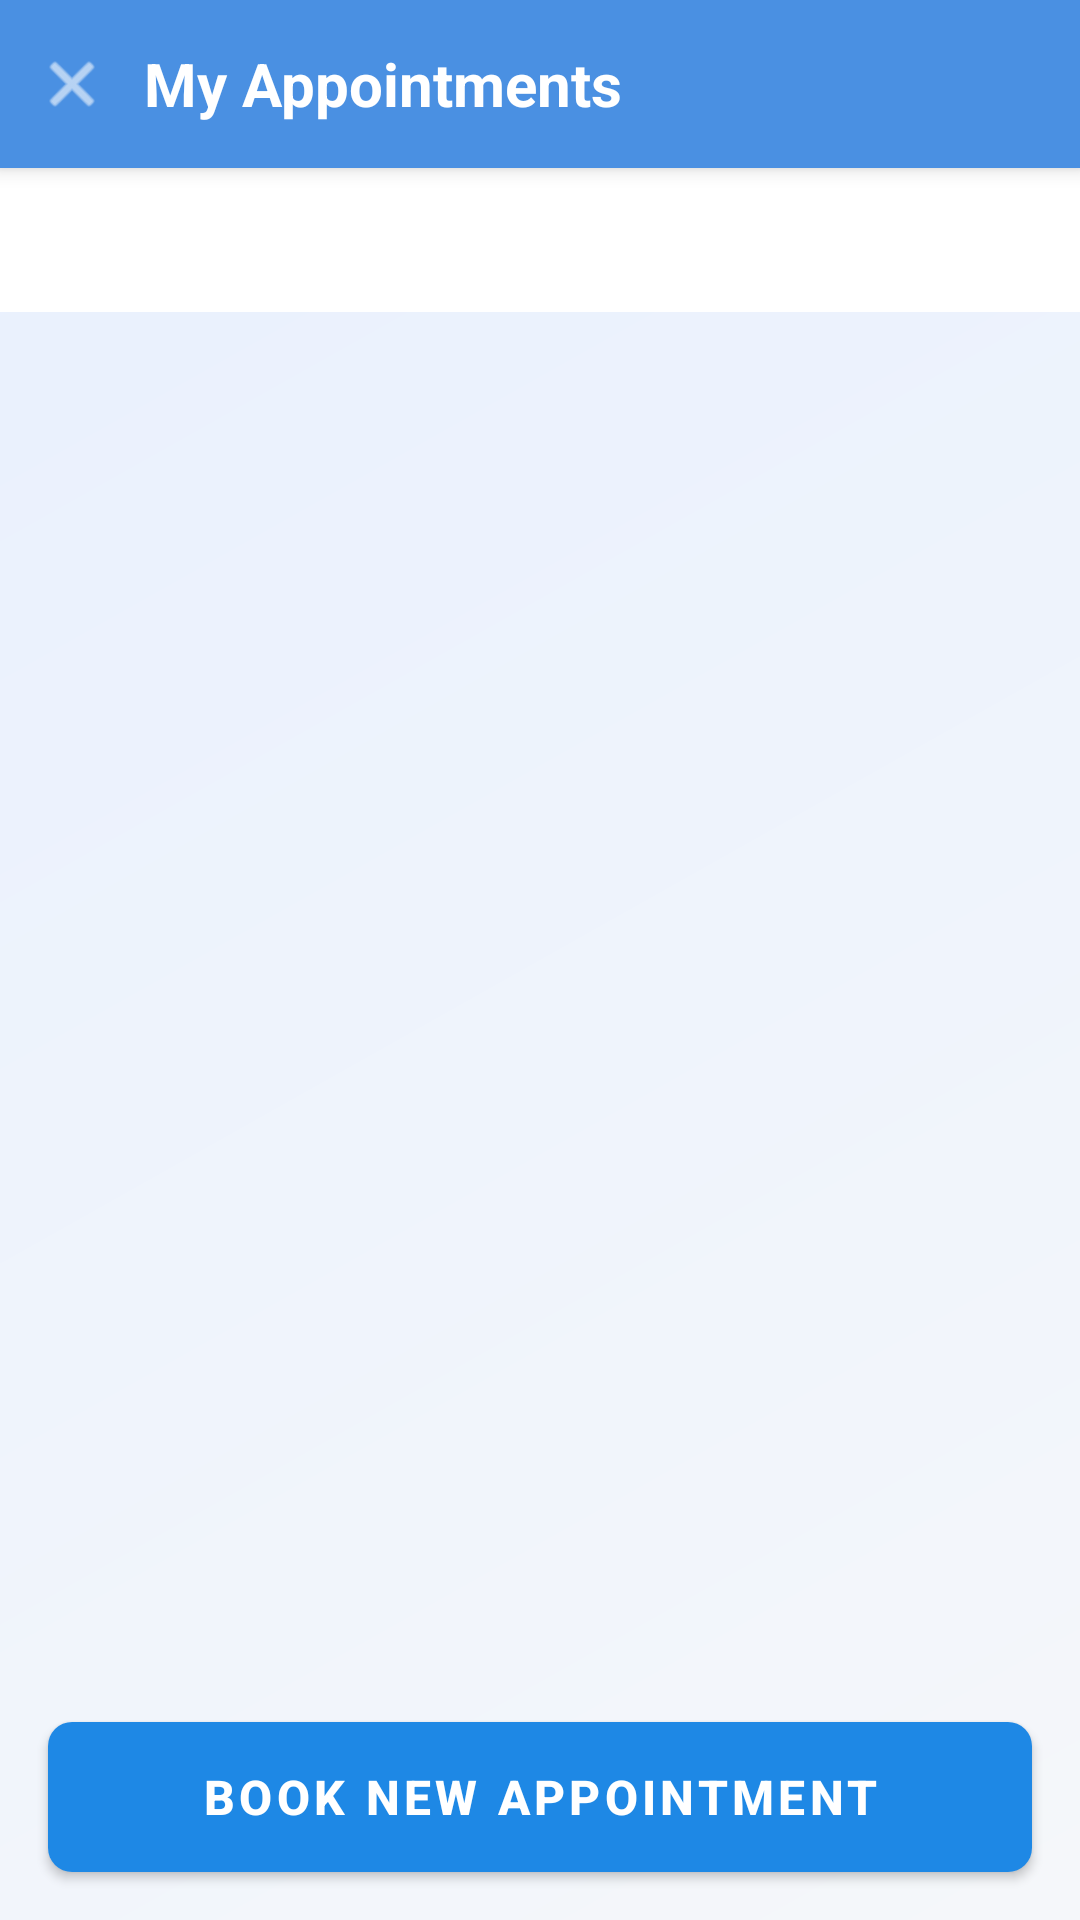

Named icons in this screenshot (1080×1920) and their centers, point (x, y):
Close: point (72, 84)
